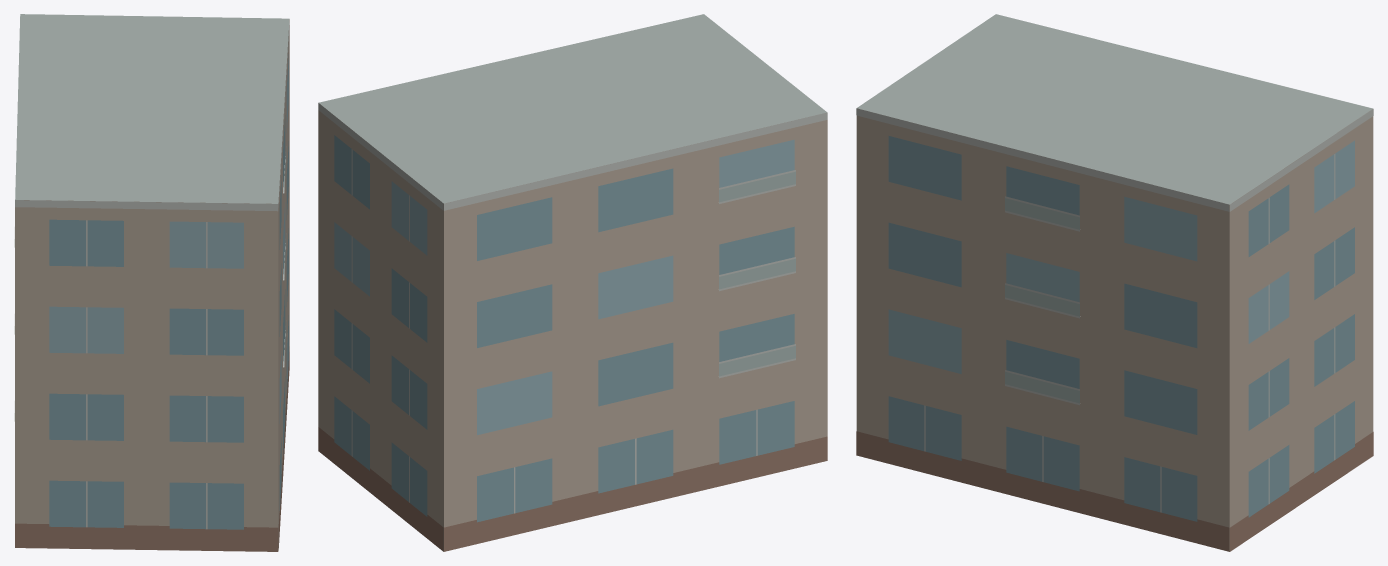
The model's file is survey-upis-32891524.glb.
The picture shows the model from 3 angles, left to right: view 1: azimuth 30°, elevation 25°; view 2: azimuth 150°, elevation 25°; view 3: azimuth 270°, elevation 25°; orthographic projection.
Visible parts, largest first — view 1: survey-upis-32891524.tmp; view 2: survey-upis-32891524.tmp; view 3: survey-upis-32891524.tmp.
Boxes of the visible parts, bbox=[...] form: survey-upis-32891524.tmp: bbox=[14, 14, 289, 551]; survey-upis-32891524.tmp: bbox=[318, 14, 827, 551]; survey-upis-32891524.tmp: bbox=[856, 14, 1373, 551].
Size of the model in its own units: 13.73 by 11.65 by 15.73.
